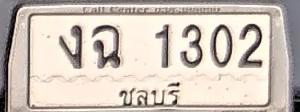0: (210, 23, 232, 68)
1: (154, 23, 170, 68)
2: (238, 23, 262, 68)
3: (180, 23, 203, 68)
A07: (58, 24, 83, 69)
A09: (92, 23, 122, 68)
CBI: (113, 77, 186, 110)
